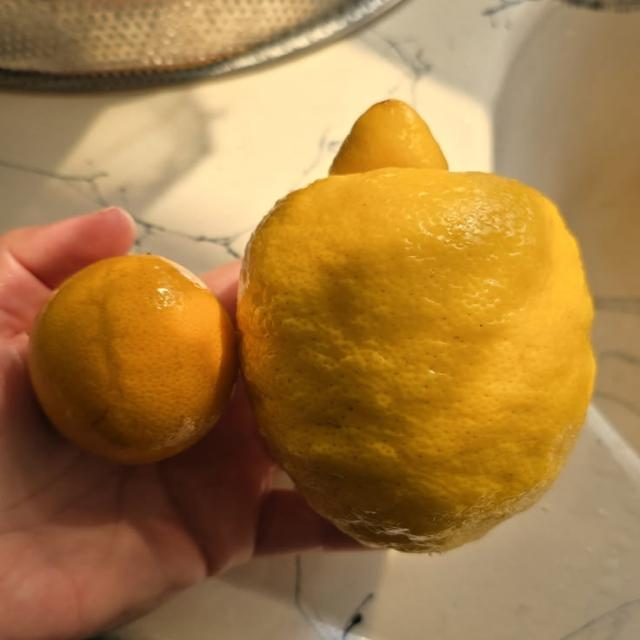lemon: (238, 168, 594, 550), (29, 256, 236, 463)
